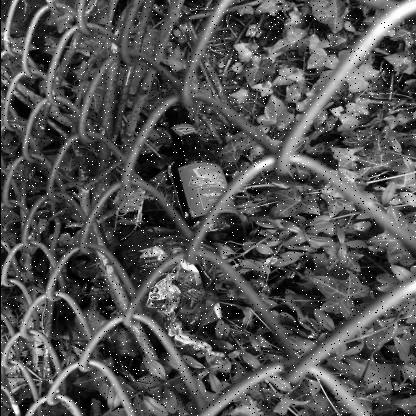glass: (157, 102, 241, 233)
plastic: (114, 226, 224, 358)
